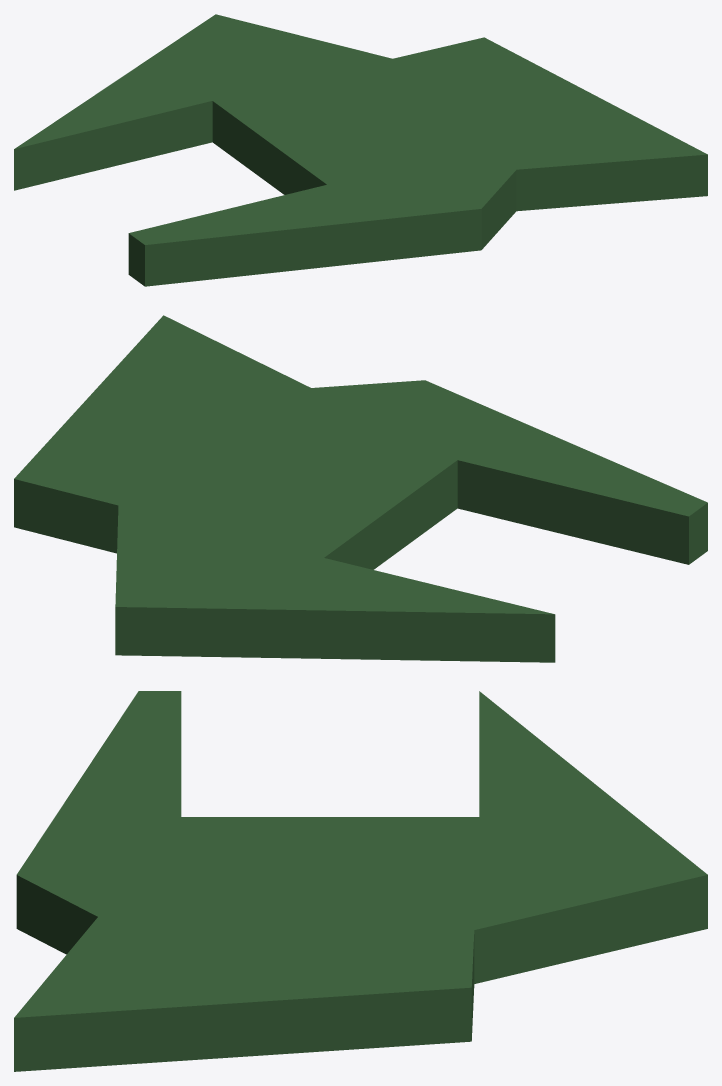
The model's file is x_proval_00_52_1_rmstrd_mirror.fbx.
The picture shows the model from 3 angles, top to bottom: view 1: azimuth 30°, elevation 25°; view 2: azimuth 150°, elevation 25°; view 3: azimuth 270°, elevation 25°; orthographic projection. The views are drawn at different scales.
Visible parts, largest first — view 1: x_proval_00_52_1_rmstrd_mirror1; view 2: x_proval_00_52_1_rmstrd_mirror1; view 3: x_proval_00_52_1_rmstrd_mirror1.
Boxes of the visible parts, left/top/right/bottom form: x_proval_00_52_1_rmstrd_mirror1: left=14, top=14, right=707, bottom=286; x_proval_00_52_1_rmstrd_mirror1: left=14, top=315, right=707, bottom=662; x_proval_00_52_1_rmstrd_mirror1: left=14, top=691, right=707, bottom=1071.
Size of the model in its own units: 2.59 by 0.2 by 2.33.
